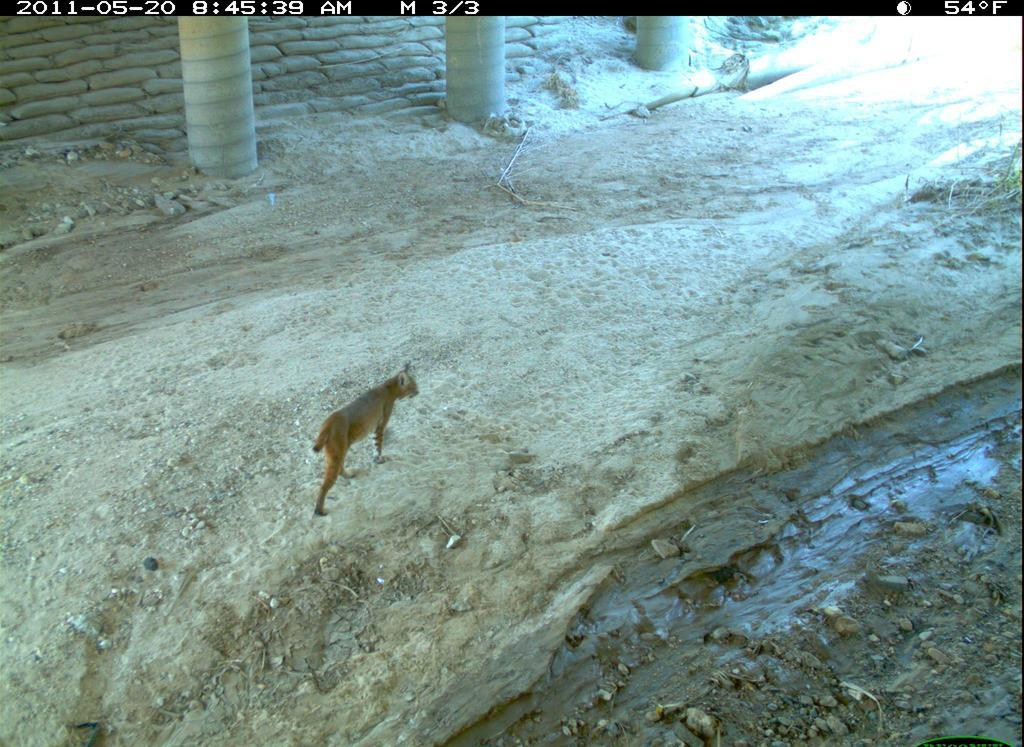bobcat: (303, 353, 422, 521)
